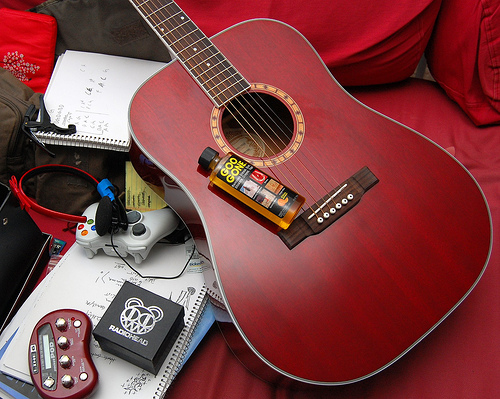guitar: (123, 1, 495, 388)
